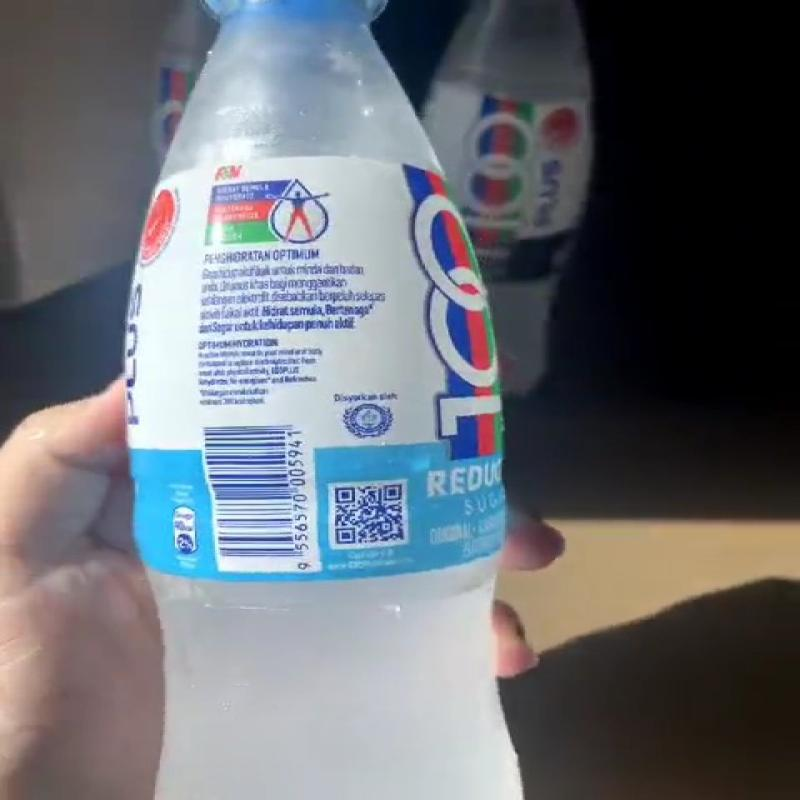botella: (114, 0, 530, 800), (421, 0, 601, 396)
